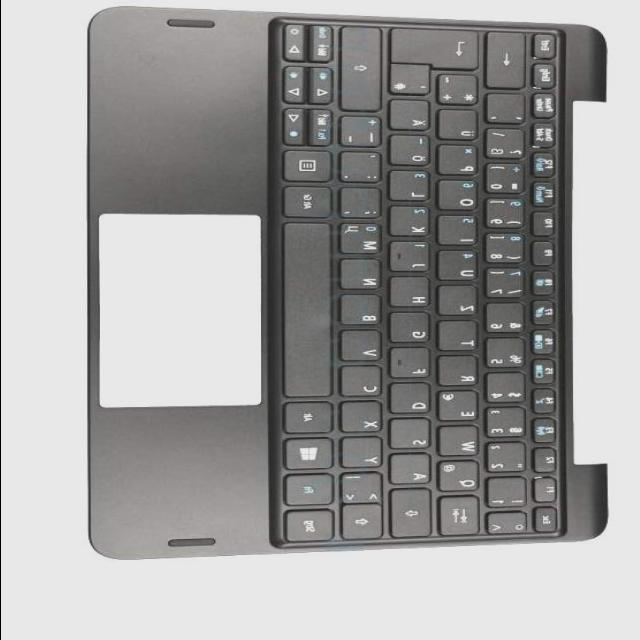0: (486, 164, 525, 196)
1: (487, 478, 527, 510)
2: (487, 443, 527, 475)
3: (486, 408, 528, 440)
4: (485, 374, 527, 404)
5: (485, 338, 527, 370)
6: (486, 304, 526, 334)
7: (486, 269, 526, 301)
8: (486, 235, 525, 265)
9: (486, 199, 526, 231)
a: (389, 455, 433, 487)
accent: (486, 94, 528, 127)
ae: (390, 100, 432, 134)
alt-left: (285, 403, 335, 435)
altgr-right: (284, 187, 334, 219)
b: (340, 295, 382, 327)
c: (341, 367, 383, 399)
caret: (486, 513, 528, 537)
comma: (339, 188, 383, 221)
d: (389, 384, 433, 416)
del: (487, 33, 526, 92)
e: (438, 391, 480, 423)
enter: (391, 30, 479, 70)
f: (390, 348, 432, 380)
g: (390, 313, 432, 345)
h: (390, 278, 432, 310)
hash: (389, 65, 433, 97)
i: (437, 216, 479, 248)
j: (390, 242, 432, 274)
k: (390, 207, 432, 239)
keyboard: (270, 18, 567, 550)
l: (390, 171, 432, 203)
less: (341, 474, 385, 504)
m: (338, 223, 384, 256)
minus: (340, 117, 384, 150)
n: (339, 260, 383, 292)
o: (437, 181, 479, 213)
oe: (390, 136, 432, 168)
p: (438, 145, 480, 177)
plus: (438, 76, 480, 108)
point: (340, 153, 382, 185)
q: (439, 462, 481, 494)
r: (439, 357, 481, 389)
s: (389, 419, 433, 451)
shift-left: (341, 506, 385, 541)
shift-lock: (390, 489, 434, 540)
shift-right: (341, 28, 385, 114)
space: (285, 224, 333, 398)
ss: (486, 130, 525, 162)
strg-left: (284, 511, 336, 543)
t: (439, 322, 479, 352)
tab: (439, 495, 481, 538)
u: (437, 251, 479, 283)
ue: (438, 110, 480, 144)
v: (341, 331, 383, 363)
w: (439, 426, 481, 458)
x: (341, 402, 383, 434)
y: (341, 438, 383, 470)
z: (439, 286, 479, 318)
